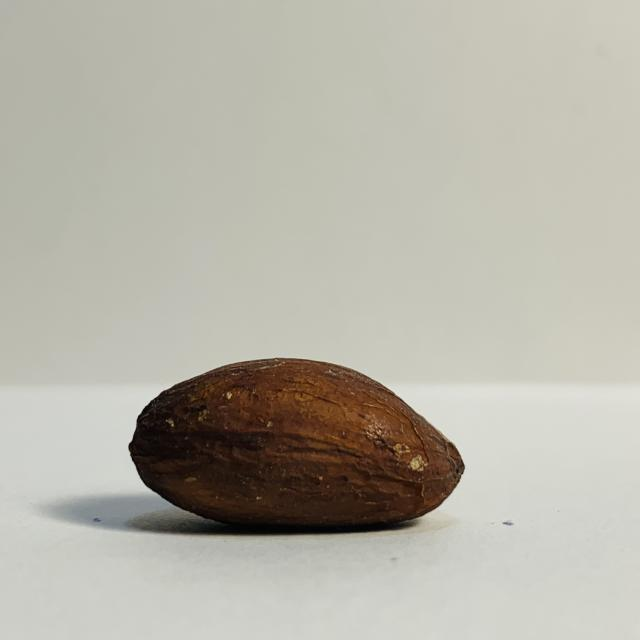Fine_cocoabeans: (12, 286, 599, 591)
